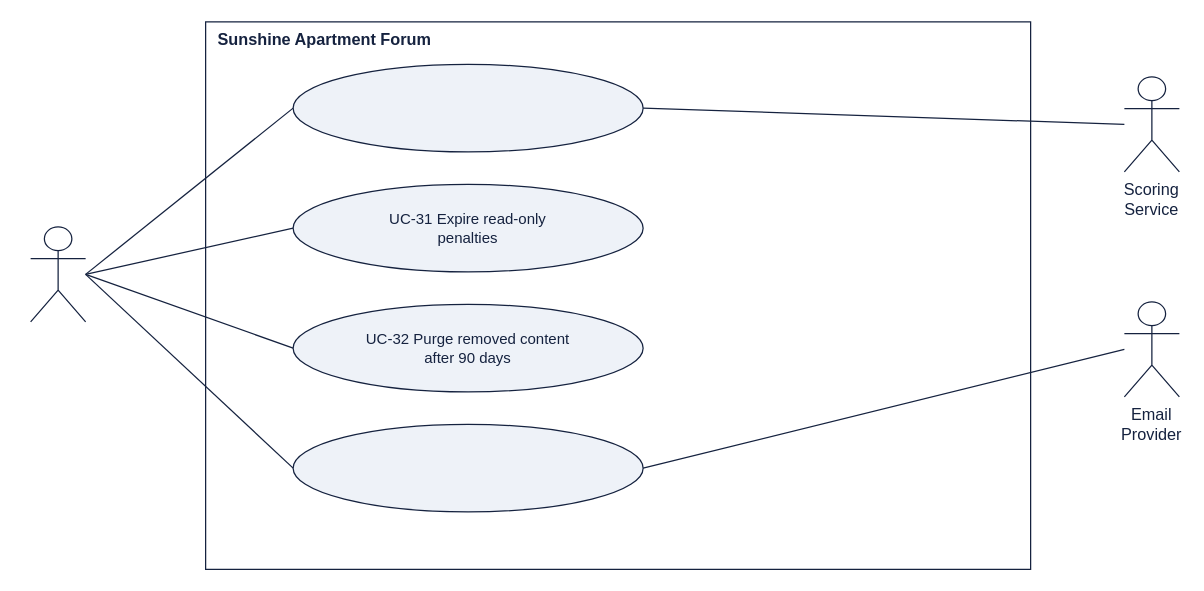
Some shapes in this 1204 by 591 pixel diagram are drawn without their labels. Each missing label, with the box of its shape:
Scheduler: (29, 226, 86, 322)
UC-30 Rescan held content after outage: (292, 63, 643, 152)
UC-33 Deliver queued notifications: (292, 423, 643, 512)
